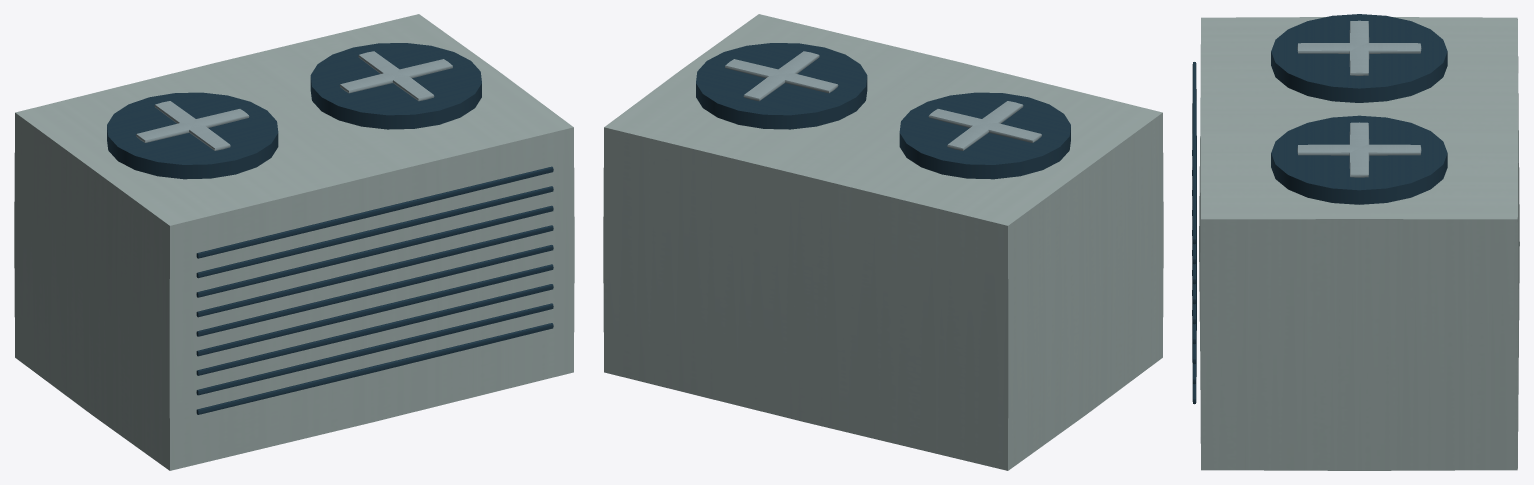
The model's file is rooftop-hvac.glb.
3 views of the same model, side by side, from view 1: azimuth 30°, elevation 25°; view 2: azimuth 150°, elevation 25°; view 3: azimuth 270°, elevation 25° (orthographic). The views are drawn at different scales.
Parts seen in each view (by area): view 1: rooftop-hvac; view 2: rooftop-hvac; view 3: rooftop-hvac.
Boxes of the visible parts, bbox=[...] form: rooftop-hvac: bbox=[14, 14, 574, 470]; rooftop-hvac: bbox=[603, 14, 1163, 470]; rooftop-hvac: bbox=[1192, 14, 1519, 470].
Size of the model in its own units: 1.2 by 0.754 by 0.817.
Materials: 20 (20 with a texture image).
